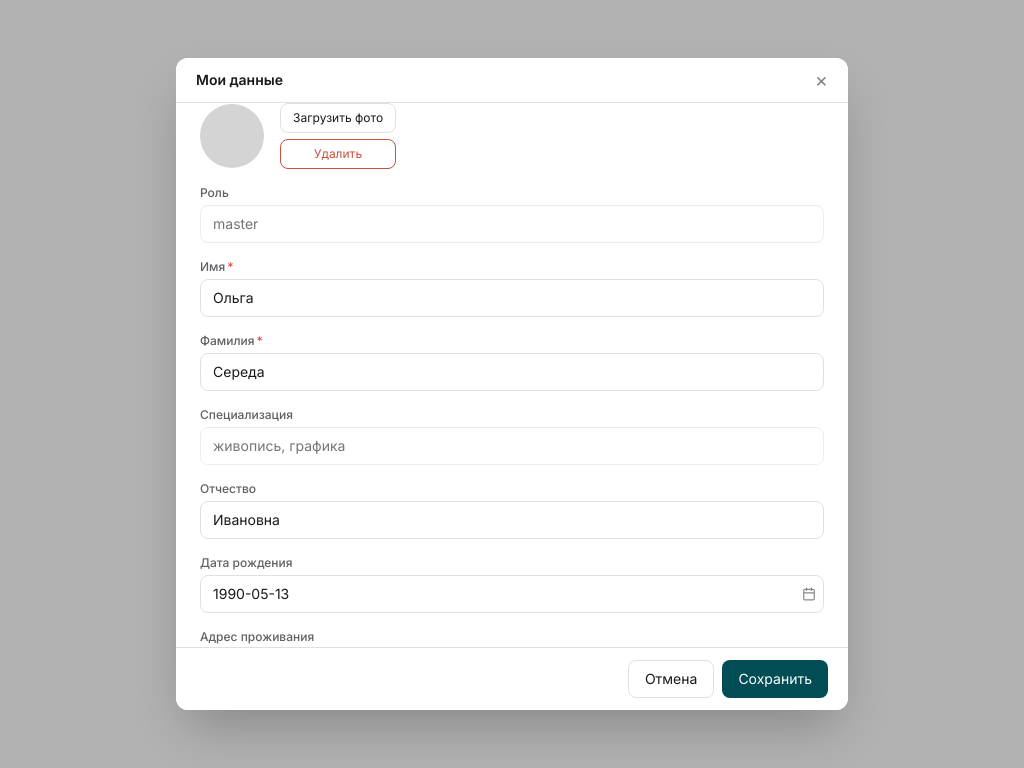
Test case: MyDataModal — private fields › birth date opens the CalendarPopover
Expected: the element with test id "mydata-form" is shown, 176,103 -> 848,647
Click the button with test id "mydata-birth_date-toggle".
click(809, 594)  # box 802,587 -> 816,601
(page scrolled)
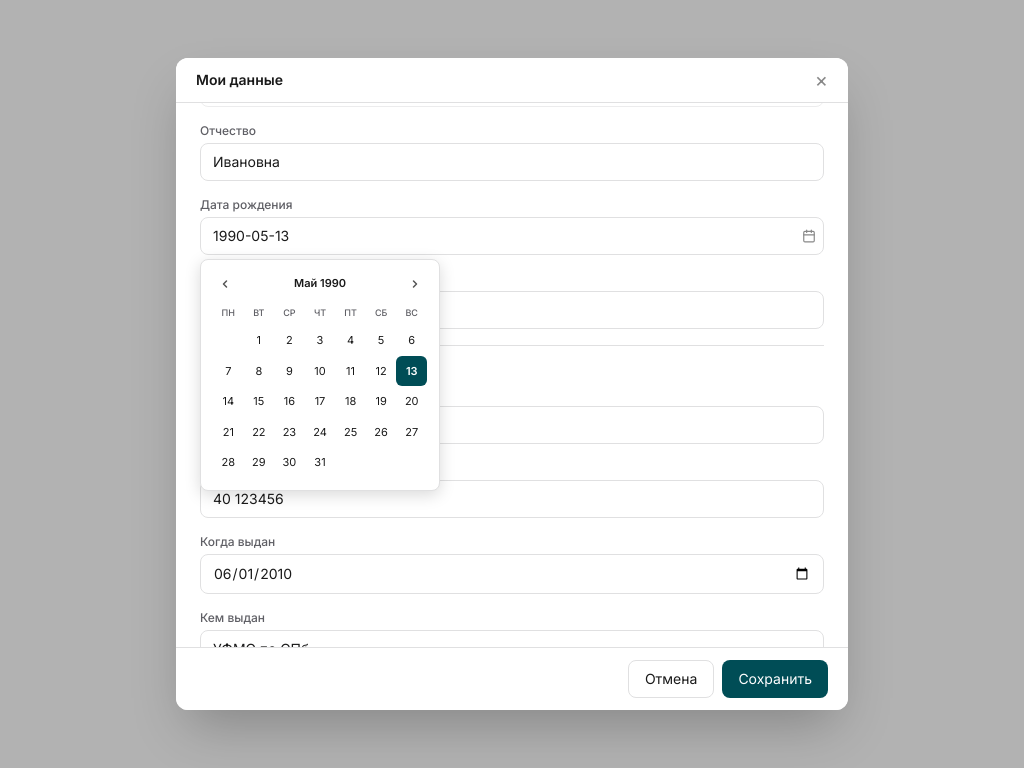
Expected: the dialog with test id "calendar-popover" is shown, 200,259 -> 440,491
